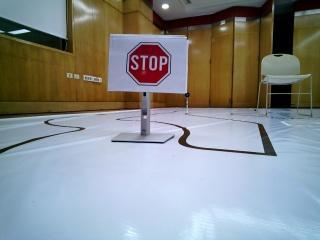stop: (110, 37, 183, 91)
